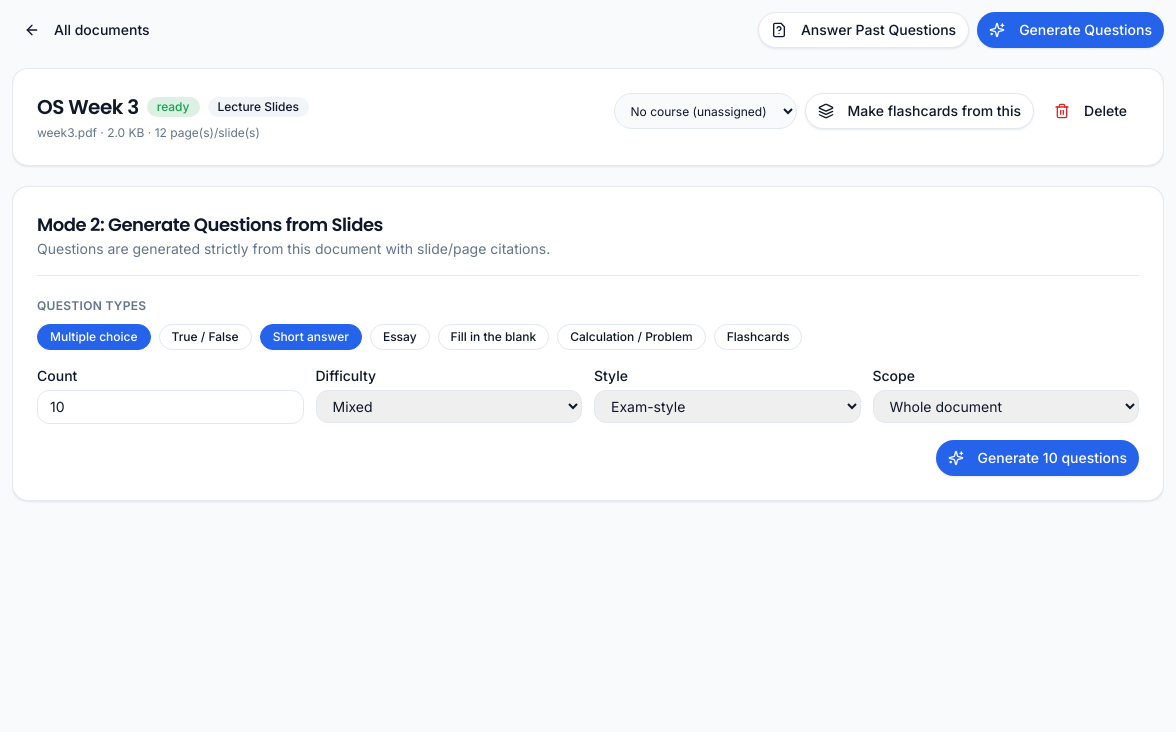
Test: Flashcards SM-2 & Spaced Repetition UI › triggers "Make flashcards from this" from a ready Document detail page
The image size is (1176, 732).
Click the button "Make flashcards from this" at (919, 111), box [804, 93, 1034, 129]
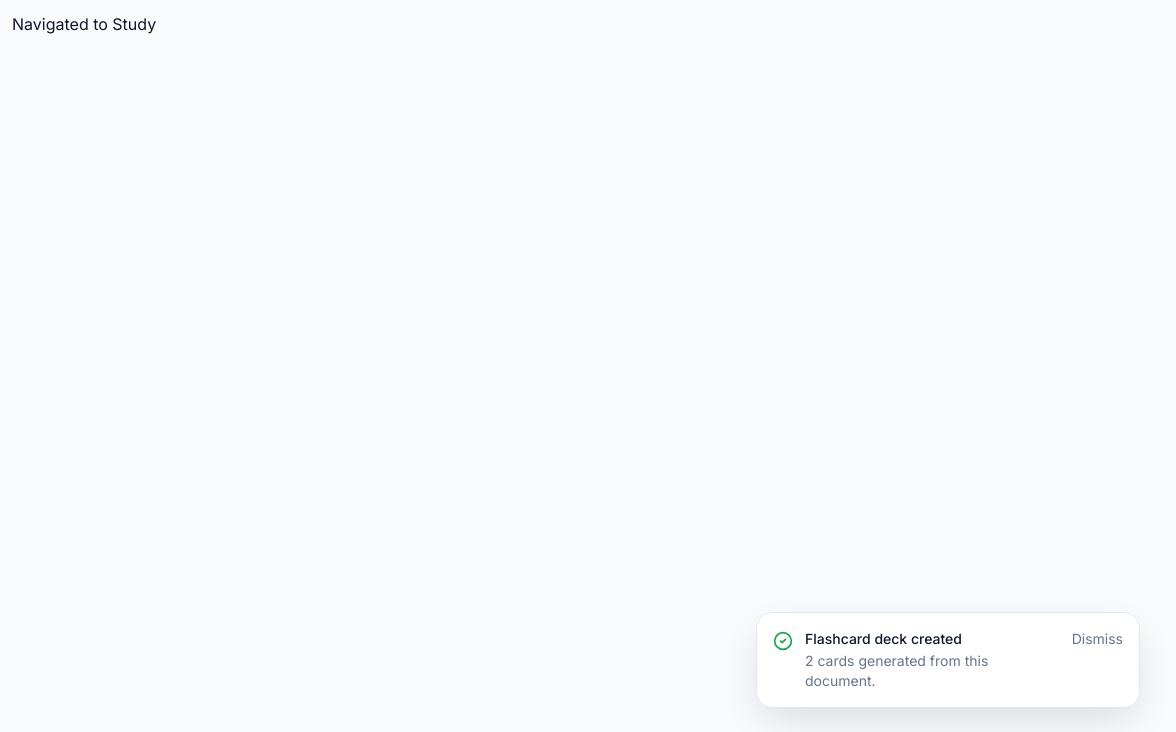
Check: the text "Navigated to Study" is shown, box [12, 14, 156, 34]
